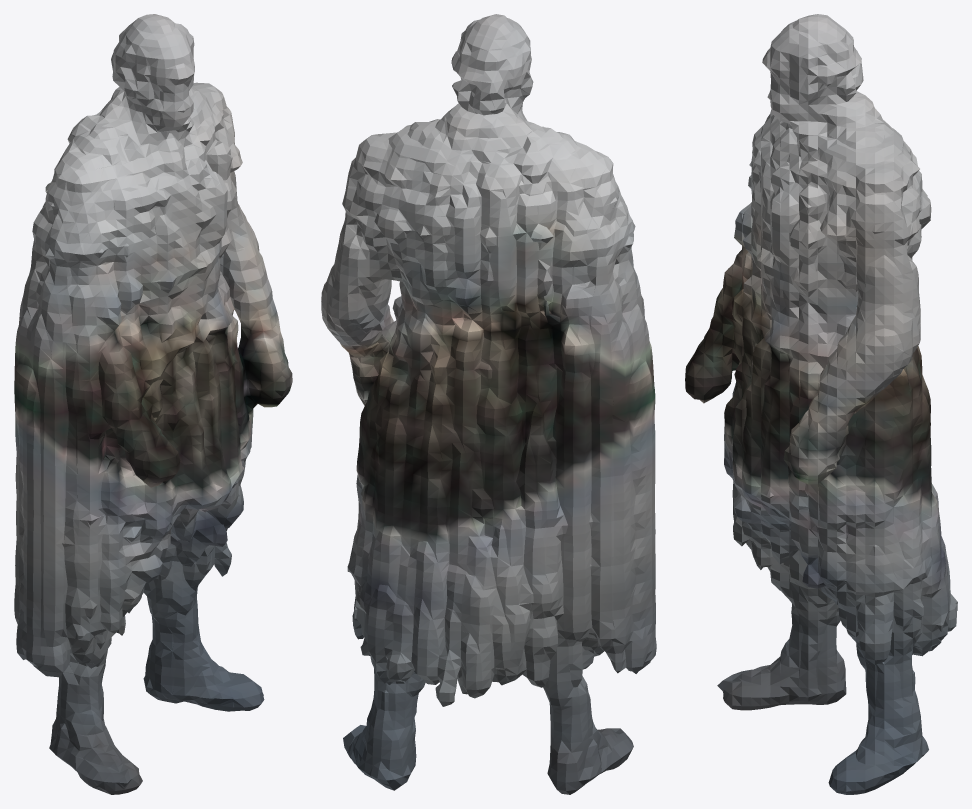
The model's file is jinhwon-triposr-v1.glb.
3 renders of one model, left to right at view 1: azimuth 30°, elevation 25°; view 2: azimuth 150°, elevation 25°; view 3: azimuth 270°, elevation 25°, orthographic. The views are drawn at different scales.
Parts seen in each view (by area): view 1: world; view 2: world; view 3: world.
Part boxes in pixels (x1,y1,x2,y2): world: (14, 14, 292, 794); world: (321, 14, 656, 794); world: (685, 14, 957, 794).
Bounding box in the file's own units: 0.6972 × 1.78 × 0.6095.
